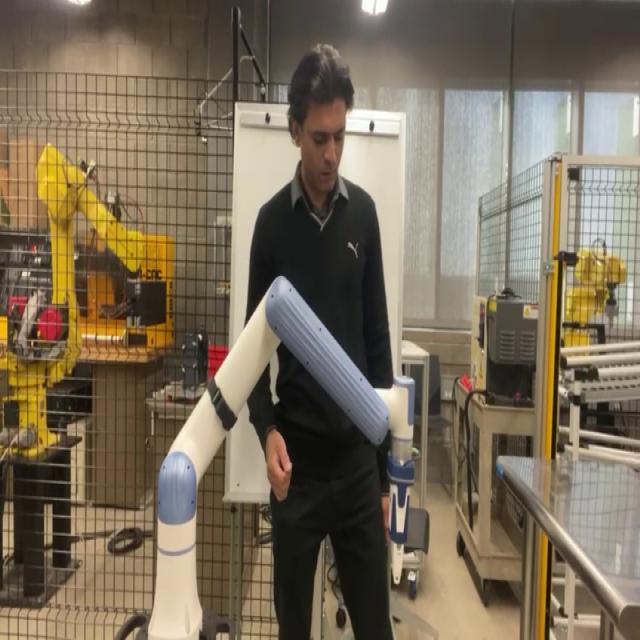robot: (115, 272, 429, 637)
